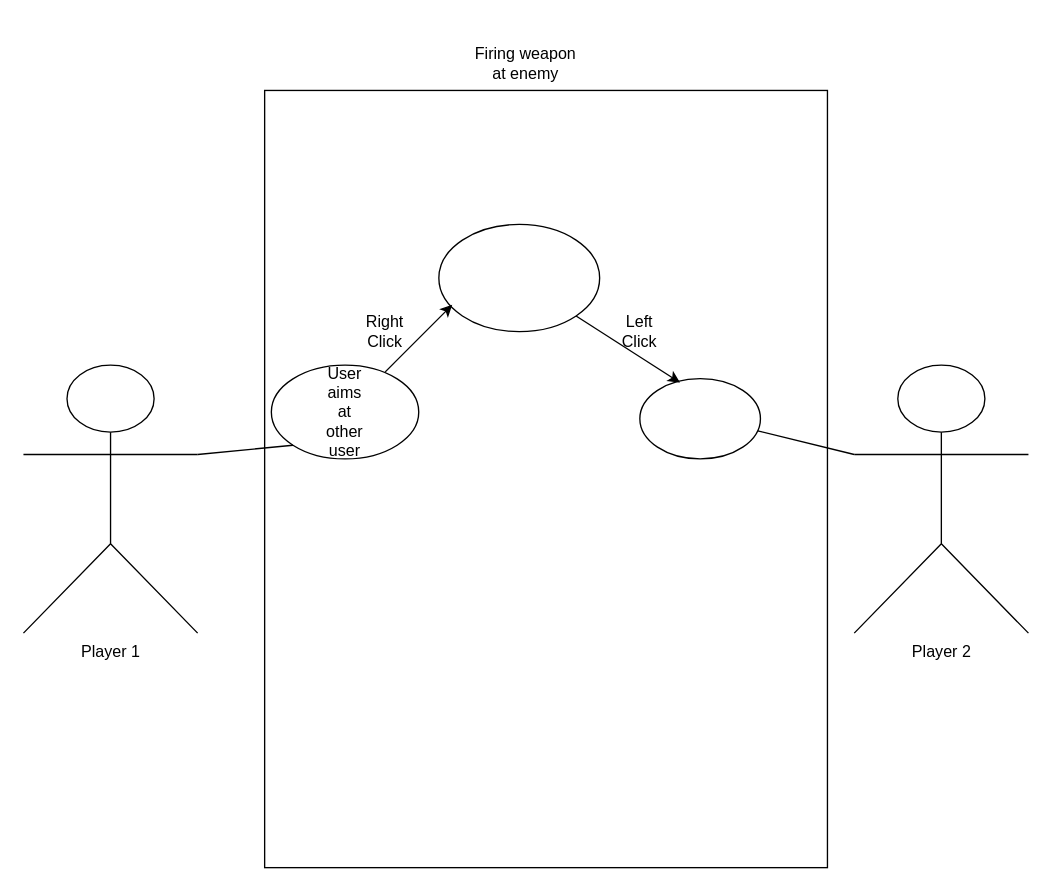
The diagram is 1052 pixels wide and 891 high, and some of its shapes have lost their labels. The centre of each missing label's shape, as x and y in pixels:
"User fires weapon at enemy" belongs at (519,277).
"User takes damage" belongs at (699,418).
